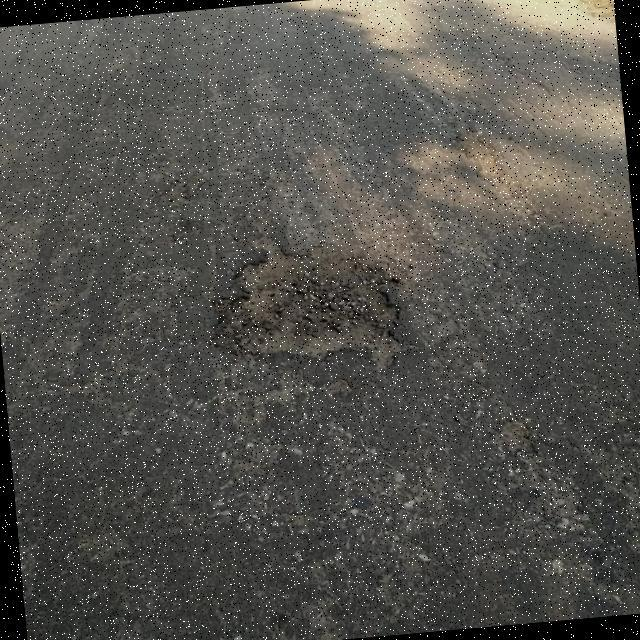Pothole: (208, 234, 405, 376)
